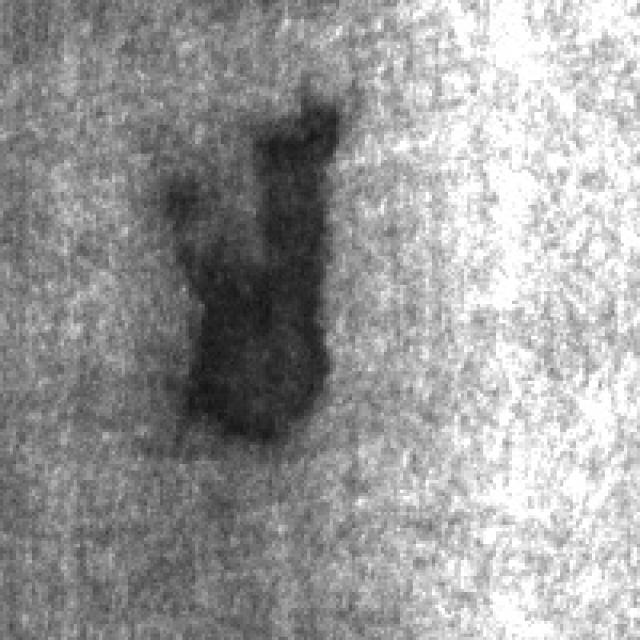patches: (160, 90, 346, 448)
